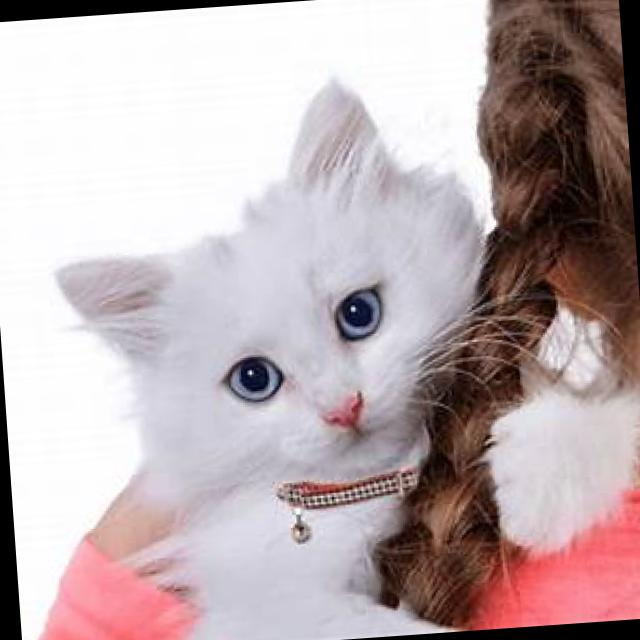animal: (37, 65, 519, 640), (331, 0, 640, 635)
